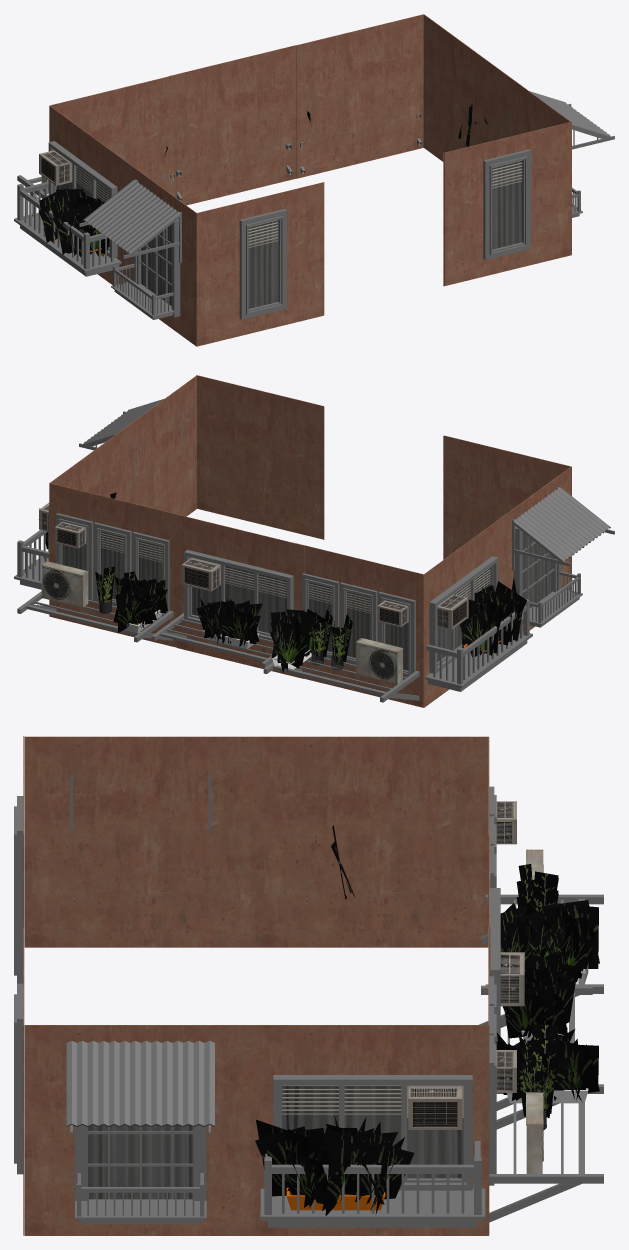
The model's file is DEMO2kopuk-normalfacade-opt-v5.glb.
3 views of the same model, one above another, from view 1: azimuth 30°, elevation 25°; view 2: azimuth 150°, elevation 25°; view 3: azimuth 270°, elevation 25° (orthographic). The views are drawn at different scales.
Visible parts, largest first — view 1: cephe ayrı og.001; view 2: cephe ayrı og.001; view 3: cephe ayrı og.001.
Boxes of the visible parts, bbox=[...] form: cephe ayrı og.001: bbox=[14, 14, 614, 346]; cephe ayrı og.001: bbox=[14, 375, 614, 707]; cephe ayrı og.001: bbox=[14, 736, 603, 1235].
Bounding box in the file's own units: 7.72 × 2 × 5.18.
Materials: 4 (4 with a texture image).
